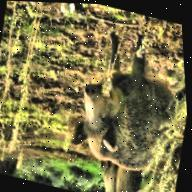boar: (49, 19, 192, 192)
